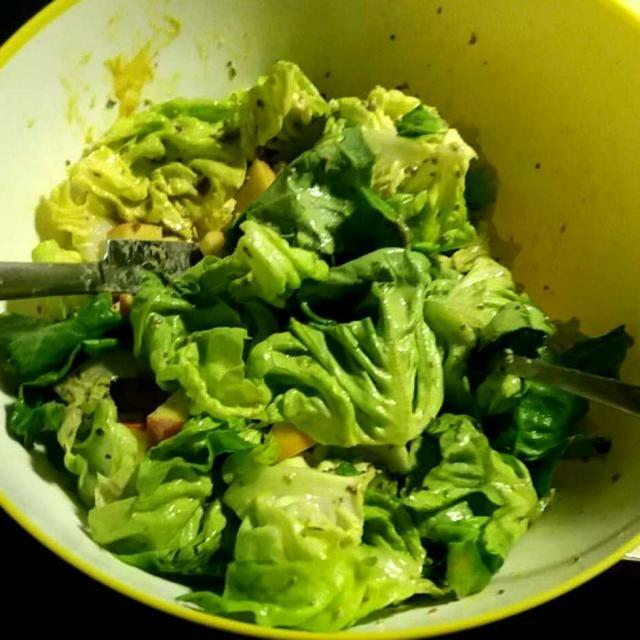salad: (24, 76, 595, 621)
